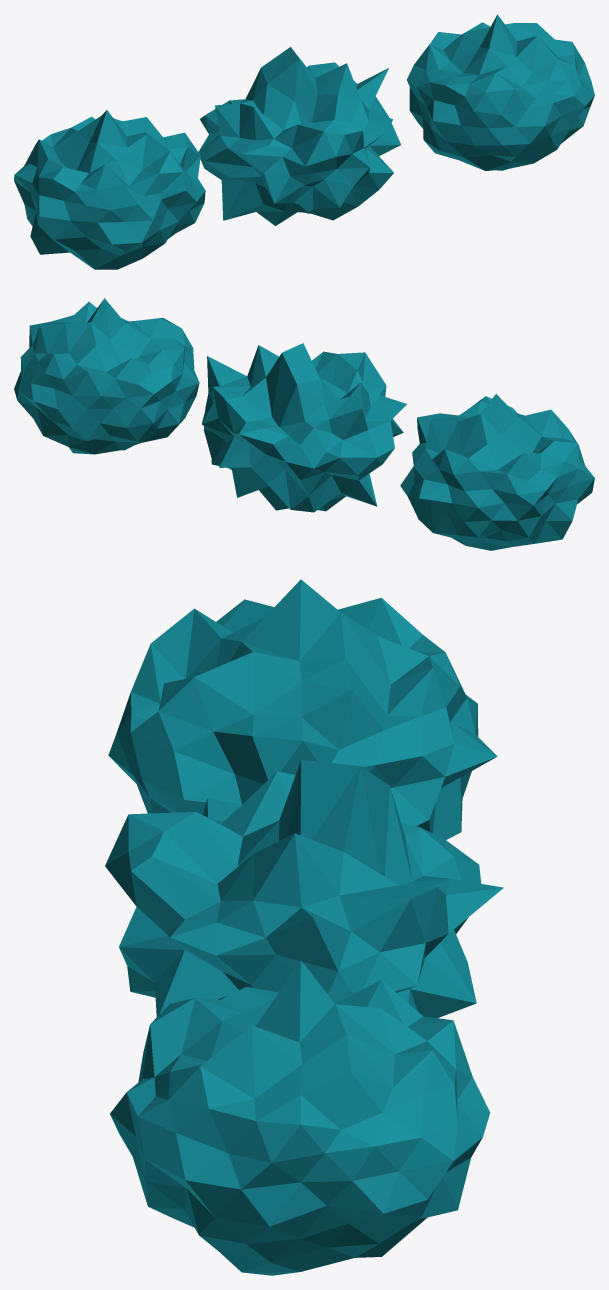
File: crystal_wide.fbx
3 renders of one model, top to bottom at view 1: azimuth 30°, elevation 25°; view 2: azimuth 150°, elevation 25°; view 3: azimuth 270°, elevation 25°, orthographic. The views are drawn at different scales.
Parts seen in each view (by area): view 1: Crystal_Wide.002, Crystal_Wide, Crystal_Wide.001; view 2: Crystal_Wide.002, Crystal_Wide, Crystal_Wide.001; view 3: Crystal_Wide.001, Crystal_Wide.002, Crystal_Wide.
Boxes of the visible parts, box(x1,y1,x2,y2) form: Crystal_Wide.002: box(198, 47, 400, 225); Crystal_Wide: box(14, 110, 205, 269); Crystal_Wide.001: box(407, 14, 594, 170); Crystal_Wide.002: box(202, 343, 406, 512); Crystal_Wide: box(400, 394, 594, 550); Crystal_Wide.001: box(14, 298, 199, 454); Crystal_Wide.001: box(110, 960, 490, 1275); Crystal_Wide.002: box(105, 759, 503, 1018); Crystal_Wide: box(108, 579, 497, 839).
Bounding box in the file's own units: 2151 × 614 × 671.
